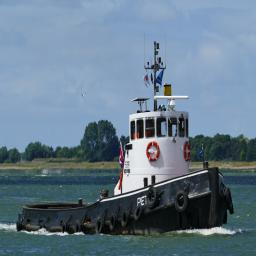tugboat: (14, 40, 237, 243)
